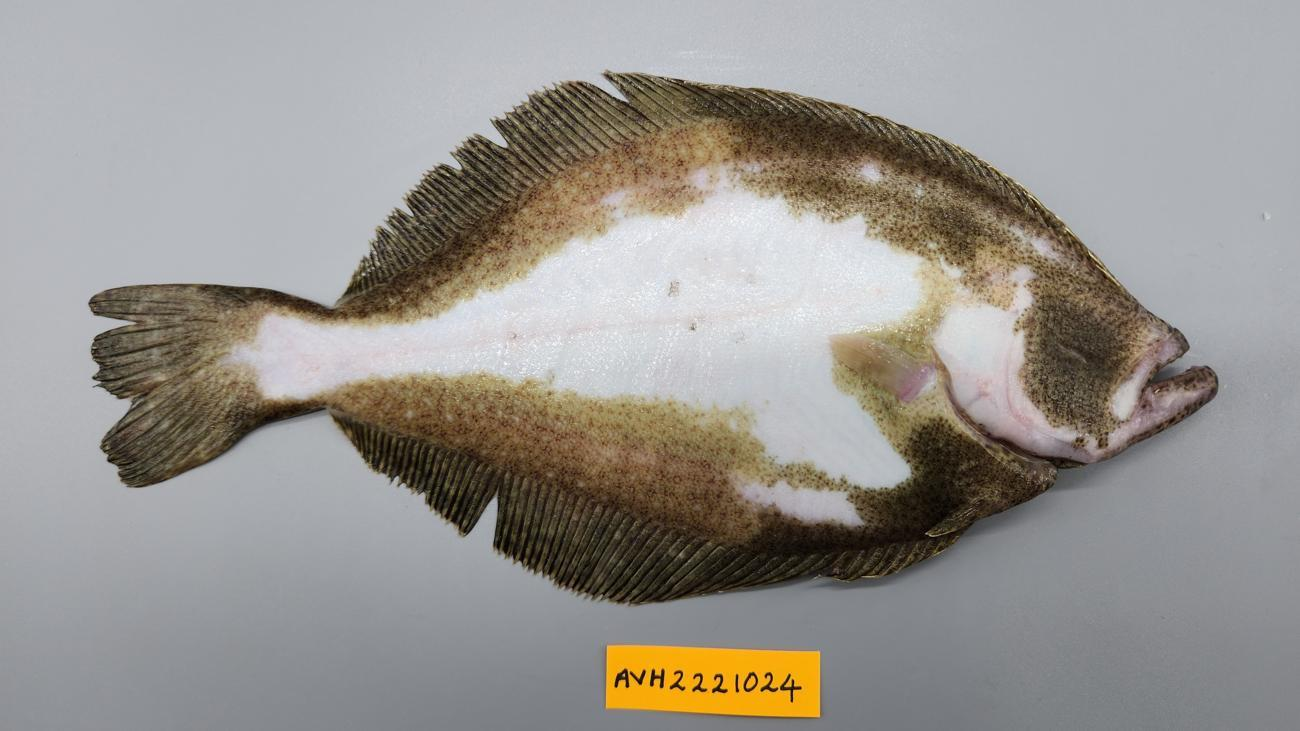VIDYH: (387, 124, 972, 305), (361, 381, 832, 552), (258, 308, 358, 389), (877, 355, 937, 410)
VIOUY: (78, 68, 1218, 602)
